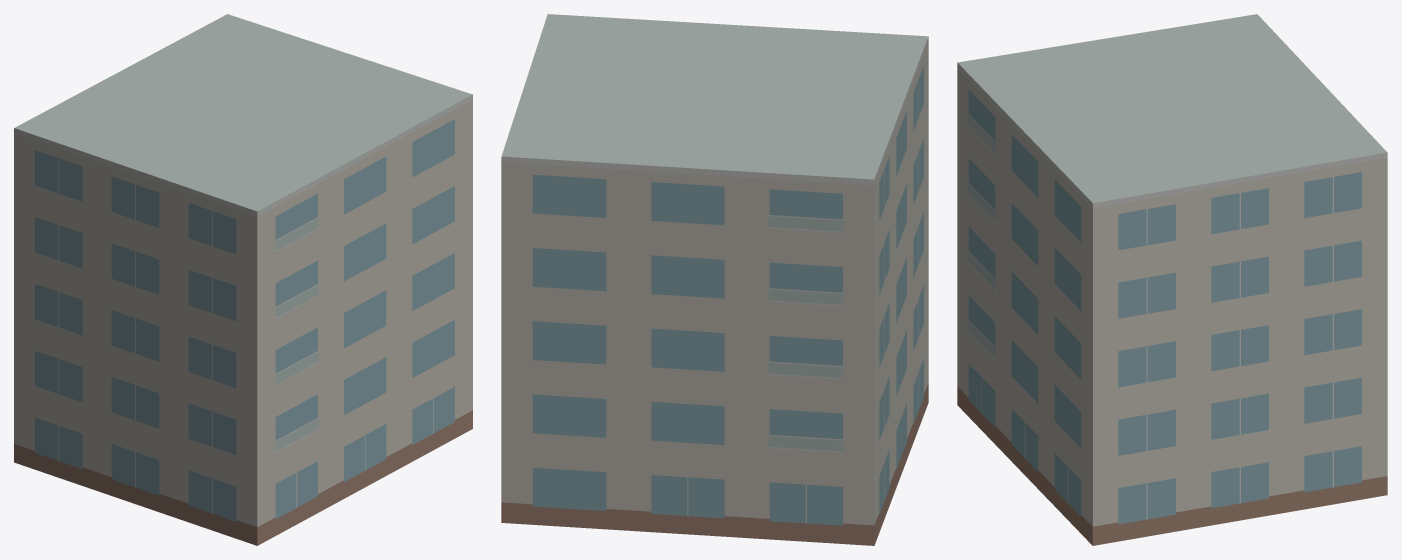
The model's file is survey-upis-32859593.glb.
3 renders of one model, left to right at view 1: azimuth 30°, elevation 25°; view 2: azimuth 150°, elevation 25°; view 3: azimuth 270°, elevation 25°, orthographic. The views are drawn at different scales.
Visible parts, largest first — view 1: survey-upis-32859593.tmp; view 2: survey-upis-32859593.tmp; view 3: survey-upis-32859593.tmp.
Boxes of the visible parts, x1,y1,x2,y2 form: survey-upis-32859593.tmp: [14, 14, 472, 545]; survey-upis-32859593.tmp: [501, 14, 928, 545]; survey-upis-32859593.tmp: [957, 14, 1387, 545].
Bounding box in the file's own units: 18.64 × 15.73 × 17.9.
